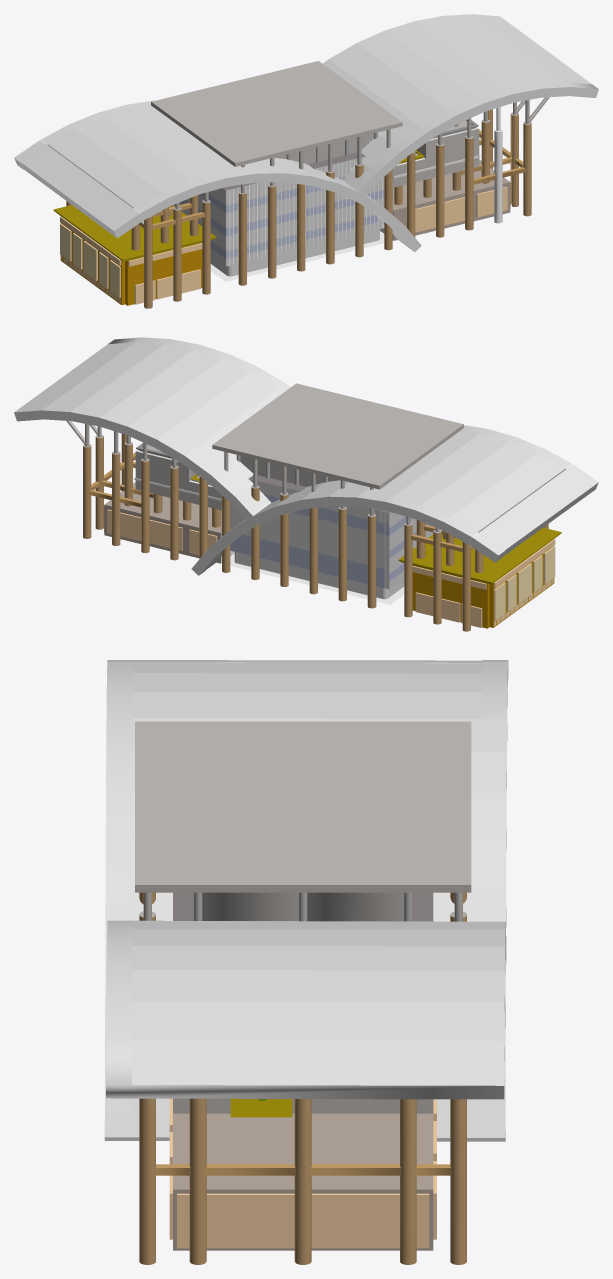
The model's file is perpustakaan soeman hs.fbx.
3 views of the same model, one above another, from view 1: azimuth 30°, elevation 25°; view 2: azimuth 150°, elevation 25°; view 3: azimuth 270°, elevation 25° (orthographic). The views are drawn at different scales.
Visible parts, largest first — view 1: Mesh10_M_0099_LightSteelBlue_0, Mesh10__23_0, Mesh10__22_0, Mesh10_Color_C03_0, Mesh10_FrontColor_0, Mesh10_Translucent_Resin_Crush_Gray_0, Mesh10_Translucent_Glass_Sky_Reflection_0, Mesh10_Color_D08_0, Mesh10_Mirror_01_0, Mesh10_Color_C07_0, Mesh10__46_0, Mesh10__45_0 (+4 smaller); view 2: Mesh10_M_0099_LightSteelBlue_0, Mesh10__23_0, Mesh10__22_0, Mesh10_Color_C03_0, Mesh10_Translucent_Glass_Sky_Reflection_0, Mesh10_Translucent_Resin_Crush_Gray_0, Mesh10_Color_D08_0, Mesh10_Mirror_01_0, Mesh10_Color_C07_0, Mesh10__46_0, Mesh10__45_0, Mesh10__48_0 (+4 smaller); view 3: Mesh10_M_0099_LightSteelBlue_0, Mesh10__23_0, Mesh10__46_0, Mesh10_Color_C03_0, Mesh10__22_0, Mesh10__31_0, Mesh10__21_0, Mesh10__45_0, Mesh10_Asphalt_New_0, Mesh10_Color_D06_0, Mesh10_Tile_Grey_0.
Boxes of the visible parts, <box> form: Mesh10_M_0099_LightSteelBlue_0: <box>14,14,598,251</box>; Mesh10__23_0: <box>141,61,549,224</box>; Mesh10__22_0: <box>66,114,531,308</box>; Mesh10_Color_C03_0: <box>60,183,510,304</box>; Mesh10_FrontColor_0: <box>210,107,511,281</box>; Mesh10_Translucent_Resin_Crush_Gray_0: <box>173,156,392,266</box>; Mesh10_Translucent_Glass_Sky_Reflection_0: <box>180,169,392,258</box>; Mesh10_Color_D08_0: <box>53,150,424,261</box>; Mesh10_Mirror_01_0: <box>186,169,392,251</box>; Mesh10_Color_C07_0: <box>60,223,202,305</box>; Mesh10__46_0: <box>393,159,510,240</box>; Mesh10__45_0: <box>393,129,479,187</box>; Mesh10_M_0099_LightSteelBlue_0: <box>14,337,598,575</box>; Mesh10__23_0: <box>66,383,471,546</box>; Mesh10__22_0: <box>83,437,548,631</box>; Mesh10_Color_C03_0: <box>104,505,555,627</box>; Mesh10_Translucent_Glass_Sky_Reflection_0: <box>221,494,431,588</box>; Mesh10_Translucent_Resin_Crush_Gray_0: <box>221,495,433,588</box>; Mesh10_Color_D08_0: <box>190,474,561,584</box>; Mesh10_Mirror_01_0: <box>221,479,426,589</box>; Mesh10_Color_C07_0: <box>412,545,554,628</box>; Mesh10__46_0: <box>104,482,221,563</box>; Mesh10__45_0: <box>135,451,221,510</box>; Mesh10__48_0: <box>495,547,555,620</box>; Mesh10_M_0099_LightSteelBlue_0: <box>104,660,508,1141</box>; Mesh10__23_0: <box>135,721,471,921</box>; Mesh10__46_0: <box>173,1113,433,1250</box>; Mesh10_Color_C03_0: <box>169,1098,436,1248</box>; Mesh10__22_0: <box>139,892,466,1264</box>; Mesh10__31_0: <box>155,1164,451,1175</box>; Mesh10__21_0: <box>294,1099,311,1264</box>; Mesh10__45_0: <box>173,1098,433,1113</box>; Mesh10_Asphalt_New_0: <box>173,892,433,921</box>; Mesh10_Color_D06_0: <box>230,1098,292,1117</box>; Mesh10_Tile_Grey_0: <box>194,892,412,921</box>.
Bounding box in the file's own units: 13331 × 3517 × 4800.
